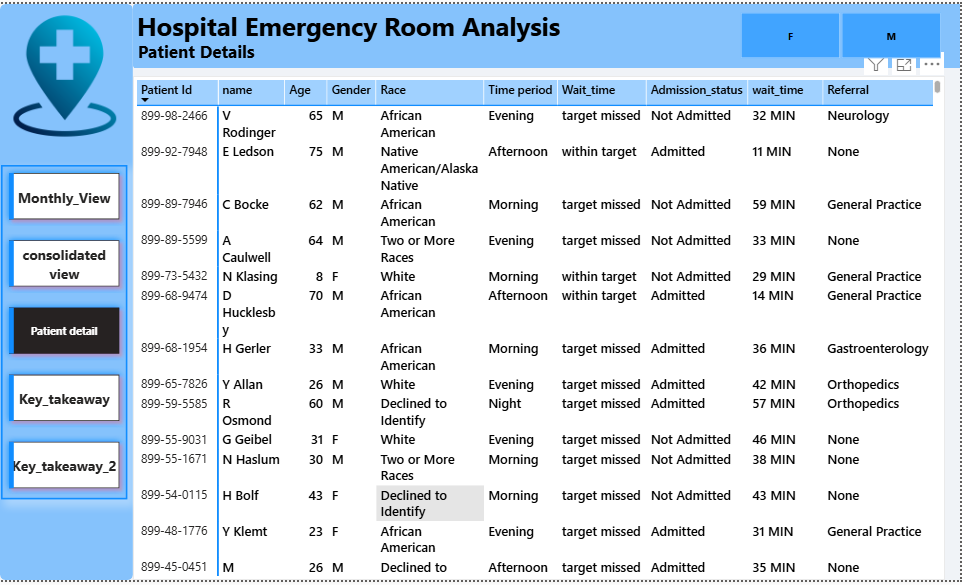

The dashboard page shown, as its layout file describes it:
{"tool":"powerbi","page":{"name":"Patient detail","canvas":[1200,720],"ordinal":2},"visuals":[{"type":"group","id":"g1","title":"Group 1","box":[0,0,1280,720],"z":0},{"type":"shape","box":[0,0,166.3,720],"z":0,"group":"g1"},{"type":"shape","box":[166.3,0,1113.7,80.4],"z":1000,"group":"g1"},{"type":"pivotTable","fields":{"Rows":["Hospital Emergency Room Data.Patient Id"],"Values":["Min(Hospital Emergency Room Data.Full Name )","Sum(Hospital Emergency Room Data.Patient Age)","Min(Hospital Emergency Room Data.Patient Gender)","Min(Hospital Emergency Room Data.Patient Race)","Min(Hospital Emergency Room Data.Time_Bucket)","Min(Hospital Emergency Room Data.Wait_time)","Min(Hospital Emergency Room Data.Admission_status)","Hospital Emergency Room Data.Avg_wait_time","Min(Hospital Emergency Room Data.Department Referral)"]},"box":[166.7,90,1015,630],"z":1000},{"type":"textbox","box":[166.7,0,578.7,56.8],"z":2000,"group":"g1"},{"type":"slicer","fields":{"Values":["Hospital Emergency Room Data.Patient Gender"]},"box":[900,4.3,300,71.4],"z":2000},{"type":"textbox","box":[167,40,218,40],"z":3000,"group":"g1"},{"type":"pageNavigator","box":[1.7,201.7,158.3,418.3],"z":3000},{"type":"image","box":[0,5,161.7,170],"z":33000,"group":"g1"}]}

Visuals, with their boxes on the page's 1200x720 design canvas (x1, y1, x2, y2). These are canvas units, not pixel positions in the 962x585 screenshot, which may show the page scaled, cropped or inside an application window:
"Group 1" group: region(0, 0, 1280, 720)
shape: region(0, 0, 166, 720)
shape: region(166, 0, 1280, 80)
pivotTable - Hospital Emergency Room Data.Patient Id x Min(Hospital Emergency Room Data.Full Name ): region(167, 90, 1182, 720)
textbox: region(167, 0, 745, 57)
slicer - Hospital Emergency Room Data.Patient Gender: region(900, 4, 1200, 76)
textbox: region(167, 40, 385, 80)
pageNavigator: region(2, 202, 160, 620)
image: region(0, 5, 162, 175)
